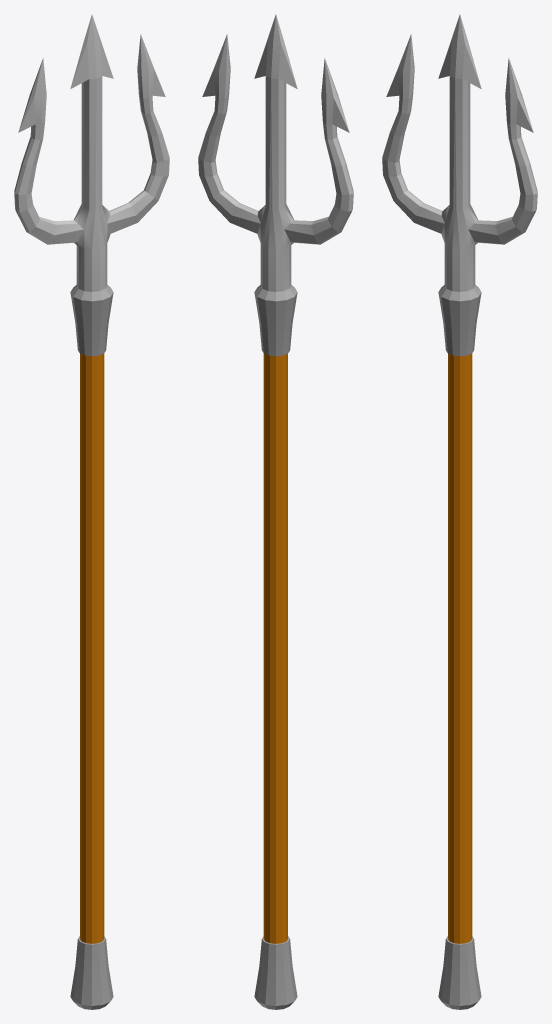
Rendered from Spear_04.fbx.
The picture shows the model from 3 angles, left to right: view 1: azimuth 30°, elevation 25°; view 2: azimuth 150°, elevation 25°; view 3: azimuth 330°, elevation 25°; orthographic projection.
Parts seen in each view (by area): view 1: Spear_04; view 2: Spear_04; view 3: Spear_04.
Part boxes in pixels (x1,y1,x2,y2): Spear_04: [14, 14, 169, 1009]; Spear_04: [198, 14, 353, 1009]; Spear_04: [382, 14, 537, 1009].
Size of the model in its own units: 2.93 by 17.97 by 0.7113.
